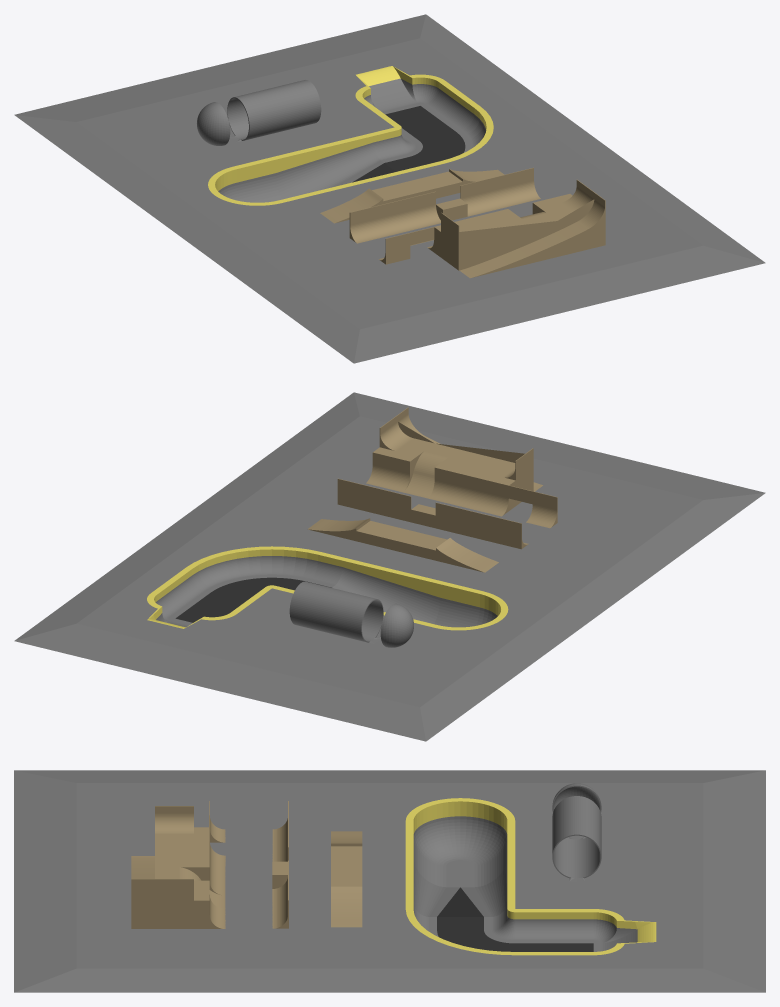
Rendered from skatepark 8.fbx.
3 renders of one model, top to bottom at view 1: azimuth 30°, elevation 25°; view 2: azimuth 150°, elevation 25°; view 3: azimuth 270°, elevation 25°, orthographic. The views are drawn at different scales.
Parts seen in each view (by area): view 1: skatepark 8; view 2: skatepark 8; view 3: skatepark 8.
Part boxes in pixels (<box>): skatepark 8: <box>14,14,765,363</box>; skatepark 8: <box>14,392,765,741</box>; skatepark 8: <box>14,770,765,992</box>.
Size of the model in its own units: 336 by 66.33 by 480.
